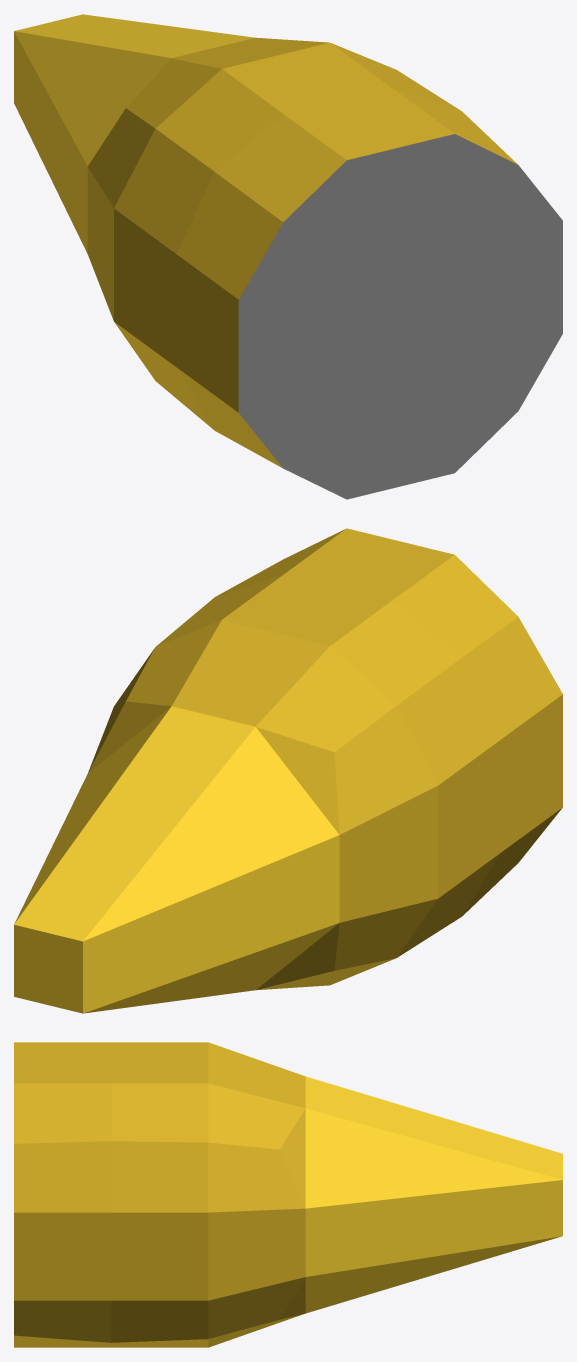
The model's file is Tank Bullet1.fbx.
3 renders of one model, top to bottom at view 1: azimuth 30°, elevation 25°; view 2: azimuth 150°, elevation 25°; view 3: azimuth 270°, elevation 25°, orthographic. The views are drawn at different scales.
Parts seen in each view (by area): view 1: Cube; view 2: Cube; view 3: Cube.
Boxes of the visible parts, x1,y1,x2,y2 form: Cube: (14,14,562,499); Cube: (14,528,562,1013); Cube: (14,1042,562,1347).
Bounding box in the file's own units: 18.63 × 18.63 × 35.08.
